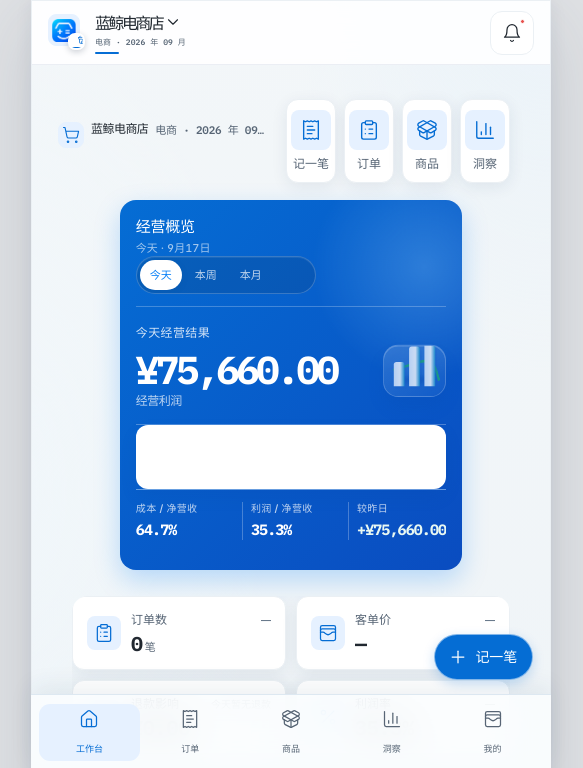
Scenario: batch-03 DOM 回归：图标线宽落地 + C5 更多菜单可用 + 表单必填星 › 记一笔表单：必填星由 .sdq-req 元素 CSS 渲染，label 文本不含字面 '*'（getByLabelText 名称不受影响）
Click the button with aria-label "新增记一笔".
click(484, 657)  # box [434,634,533,680]
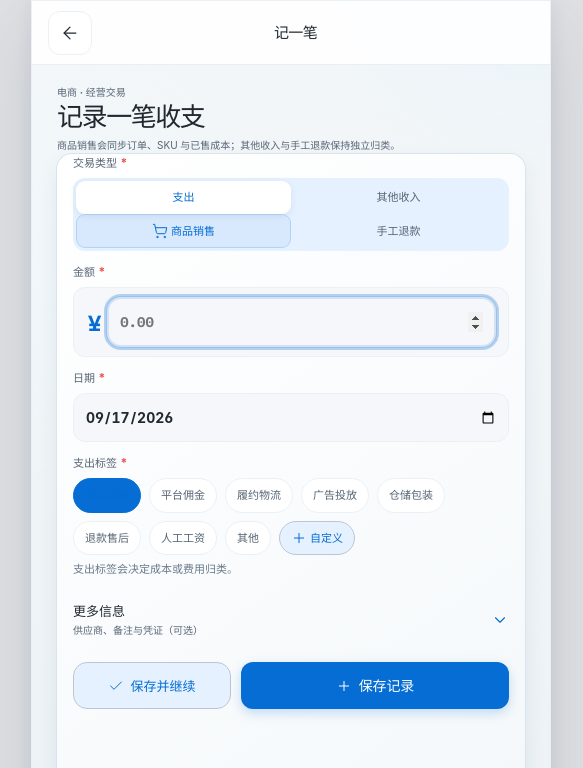
Expected: the heading "记录一笔收支" is shown, [57,101,204,132]
Expected: the text "交易类型" is shown, [73,154,128,172]
